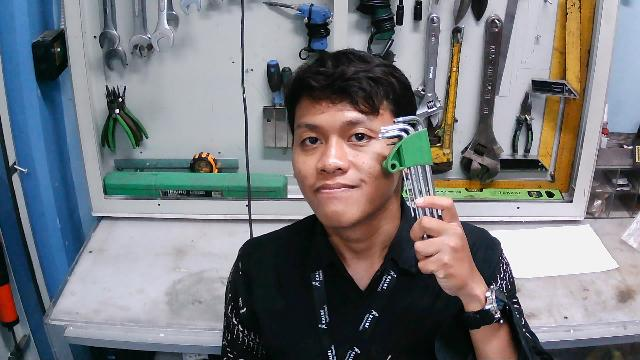kunci_l_bintang: (378, 116, 442, 260)
